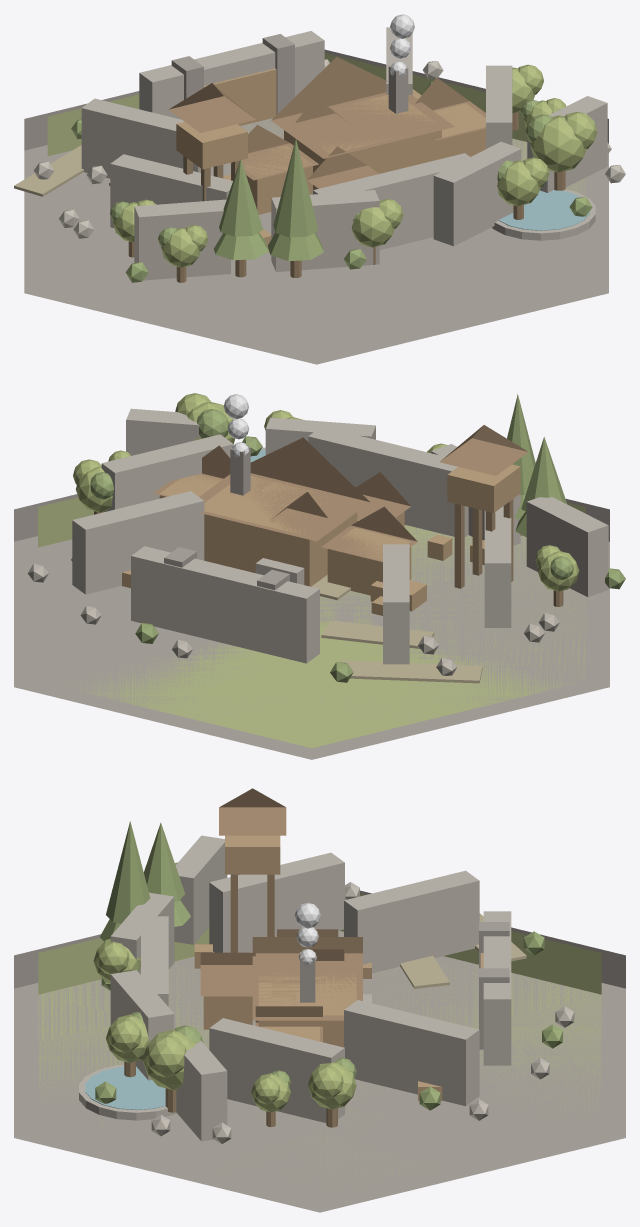
The picture shows the model from 3 angles, top to bottom: view 1: azimuth 30°, elevation 25°; view 2: azimuth 150°, elevation 25°; view 3: azimuth 270°, elevation 25°; orthographic projection. The views are drawn at different scales.
Parts seen in each view (by area): view 1: world; view 2: world; view 3: world.
Boxes of the visible parts, left/top/right/bottom form: world: left=14, top=14, right=625, bottom=364; world: left=14, top=393, right=625, bottom=759; world: left=14, top=788, right=625, bottom=1212.
Bounding box in the file's own units: 1.15 × 0.37 × 1.
